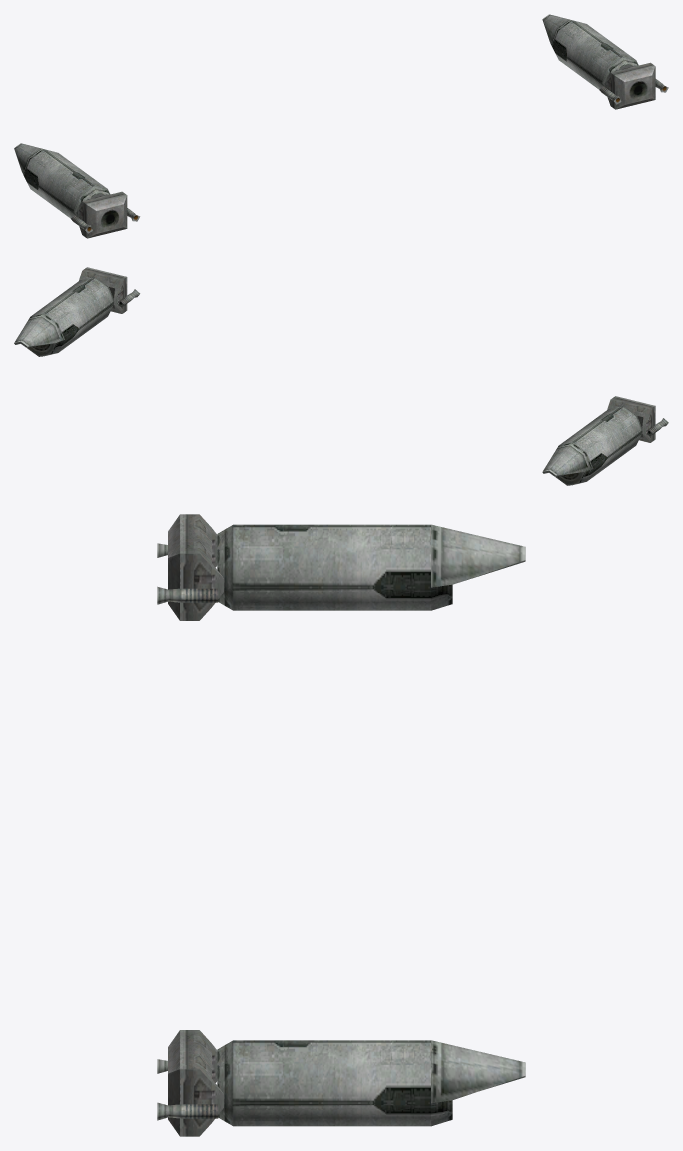
The model's file is black_sun_fighter_medium_weapon2_s03_l0.fbx.
The picture shows the model from 3 angles, top to bottom: view 1: azimuth 30°, elevation 25°; view 2: azimuth 150°, elevation 25°; view 3: azimuth 270°, elevation 25°; orthographic projection. The views are drawn at different scales.
Parts seen in each view (by area): view 1: mesh_node; view 2: mesh_node; view 3: mesh_node.
Part boxes in pixels (<box>): mesh_node: <box>14,14,668,238</box>; mesh_node: <box>14,267,668,485</box>; mesh_node: <box>157,514,525,1136</box>.
Bounding box in the file's own units: 7.69 × 0.5418 × 2.1.
1 material, 1 textured.
